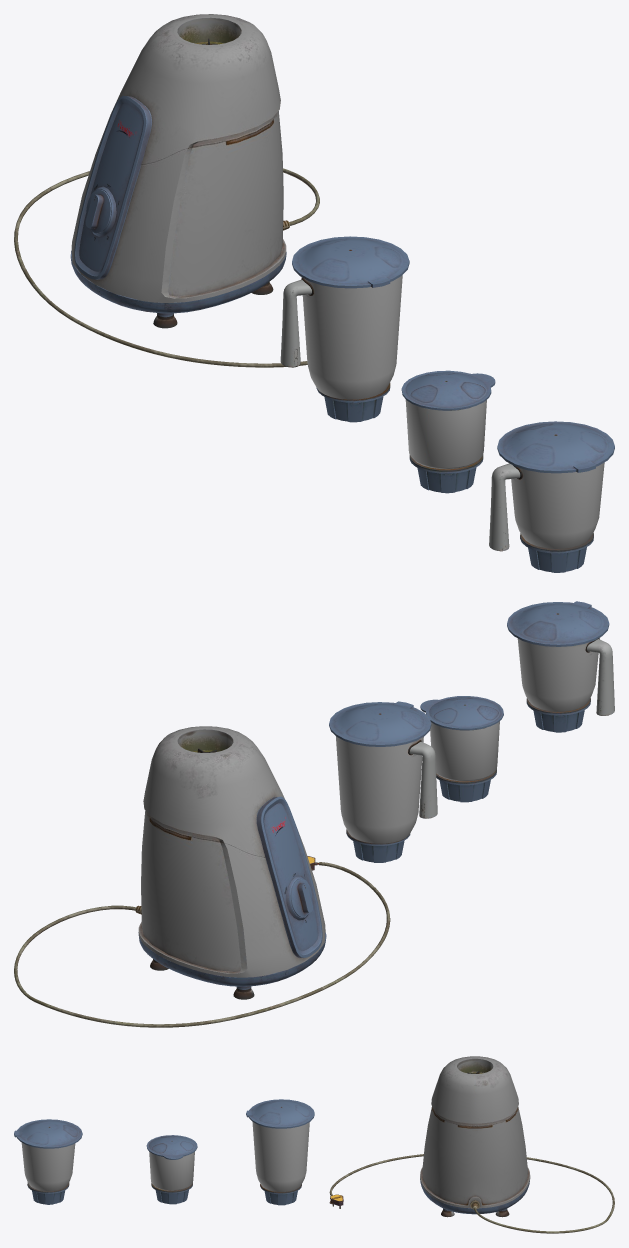
Rendered from mixer_grinder.glb.
3 views of the same model, one above another, from view 1: azimuth 30°, elevation 25°; view 2: azimuth 150°, elevation 25°; view 3: azimuth 270°, elevation 25° (orthographic). The views are drawn at different scales.
Visible parts, largest first — view 1: mat2part.007_low.019, part.032_low, part.009_low, part.004_low; view 2: mat2part.007_low.019, part.032_low, part.009_low, part.004_low; view 3: mat2part.007_low.019, part.032_low, part.009_low, part.004_low.
Boxes of the visible parts, x1,y1,x2,y2 form: mat2part.007_low.019: [14, 14, 319, 367]; part.032_low: [280, 236, 409, 422]; part.009_low: [489, 421, 614, 572]; part.004_low: [401, 370, 495, 493]; mat2part.007_low.019: [14, 726, 390, 1027]; part.032_low: [329, 701, 437, 862]; part.009_low: [507, 601, 614, 732]; part.004_low: [420, 696, 503, 802]; mat2part.007_low.019: [329, 1056, 614, 1233]; part.032_low: [246, 1099, 314, 1205]; part.009_low: [14, 1119, 82, 1204]; part.004_low: [146, 1135, 197, 1204].
Size of the model in its own units: 0.3367 by 0.2578 by 1.
2 materials, 2 textured.
